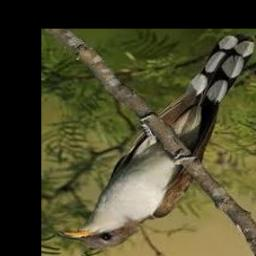Cuckoo: (60, 35, 255, 248)
